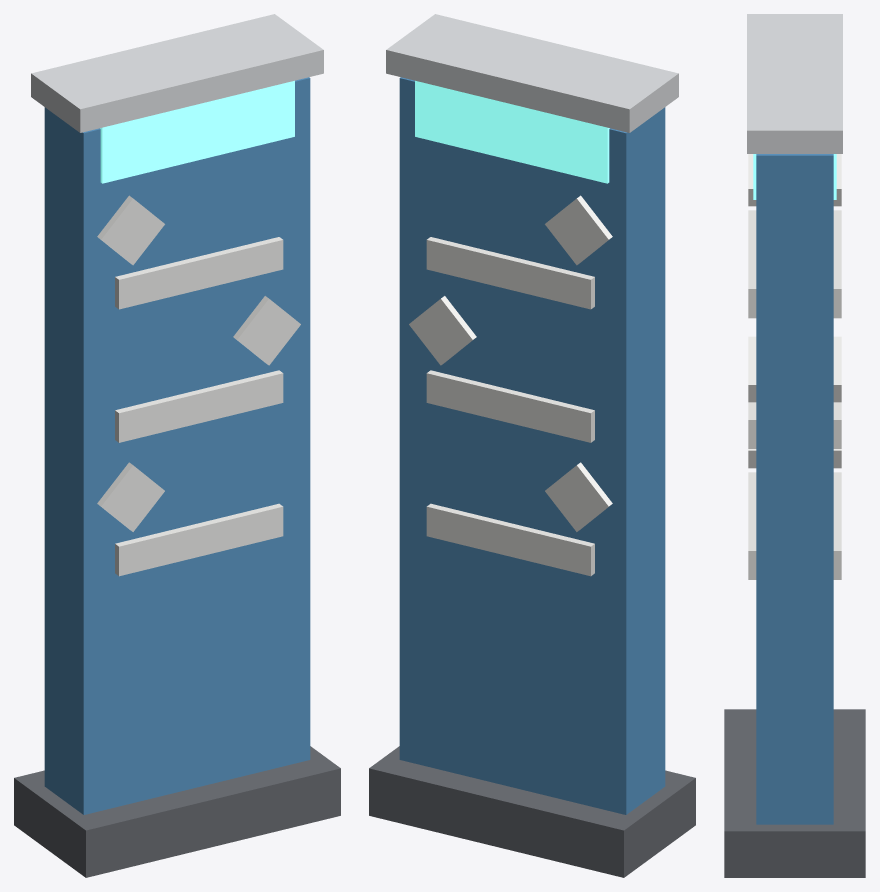
File: ferry-terminal-and-harbour-crossing-ferry-terminal-and-4f8d77f5.glb
3 views of the same model, side by side, from view 1: azimuth 30°, elevation 25°; view 2: azimuth 150°, elevation 25°; view 3: azimuth 270°, elevation 25° (orthographic).
Parts seen in each view (by area): view 1: ferry-terminal-and-harbour-crossing-wayfinding-totem; view 2: ferry-terminal-and-harbour-crossing-wayfinding-totem; view 3: ferry-terminal-and-harbour-crossing-wayfinding-totem.
Boxes of the visible parts, x1=… form: ferry-terminal-and-harbour-crossing-wayfinding-totem: x1=14, y1=14, x2=340, y2=877; ferry-terminal-and-harbour-crossing-wayfinding-totem: x1=369, y1=14, x2=695, y2=877; ferry-terminal-and-harbour-crossing-wayfinding-totem: x1=724, y1=14, x2=865, y2=877.
Size of the model in its own units: 0.9 by 2.56 by 0.4399.
